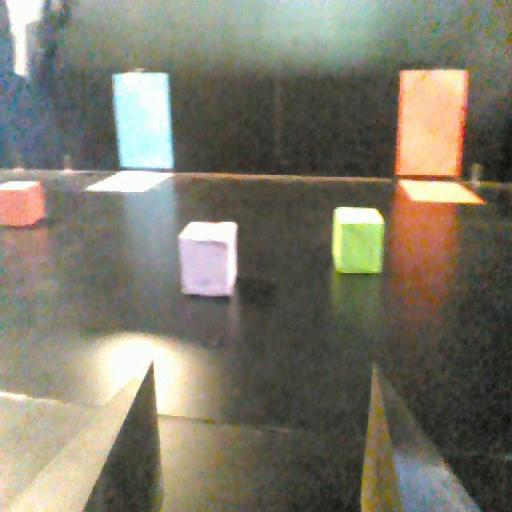cube: (170, 216, 247, 306), (330, 204, 390, 279), (0, 175, 45, 230)
